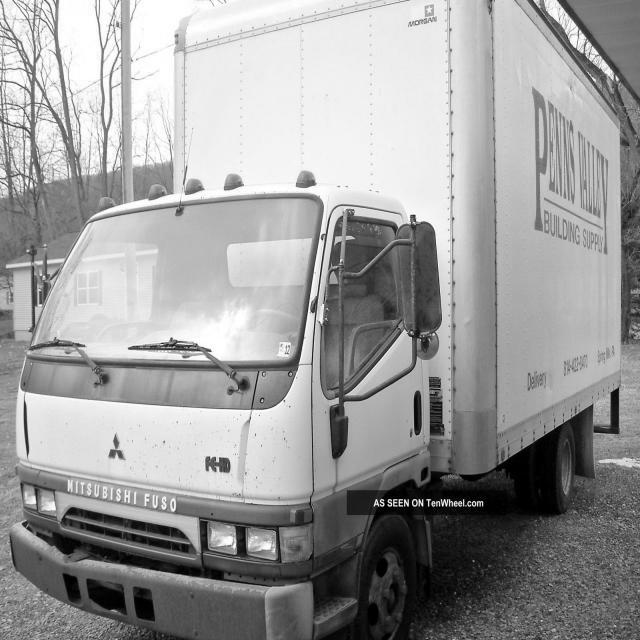truck: (1, 142, 492, 640)
